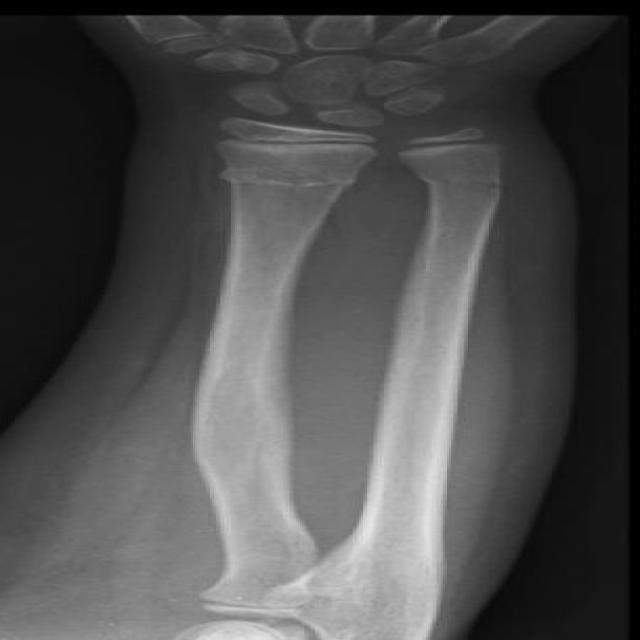Greenstick: (180, 158, 551, 238)
